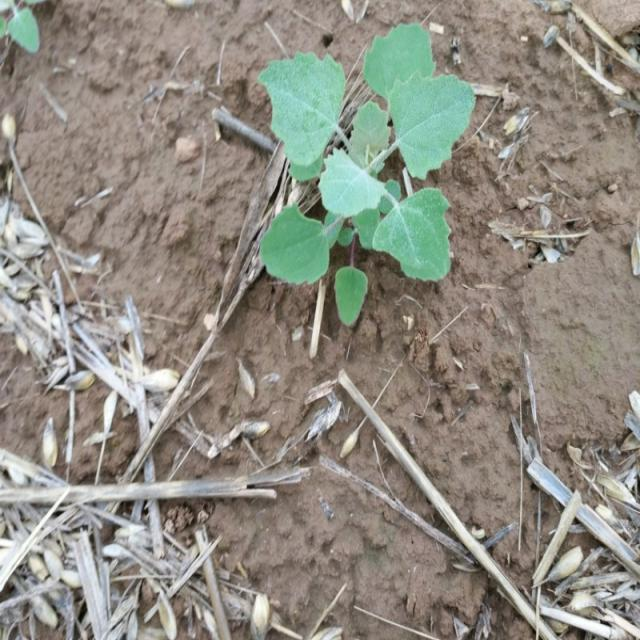goosefoots: (246, 18, 522, 306)
